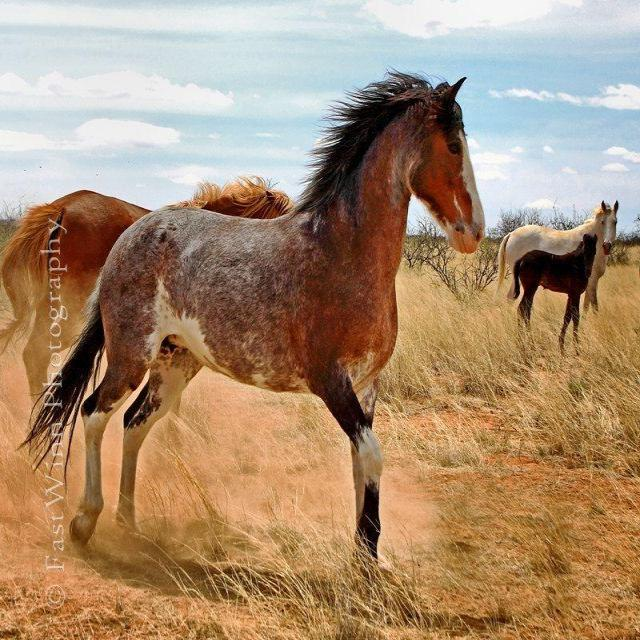horse: (14, 66, 486, 577), (494, 199, 618, 316), (506, 231, 598, 356)
